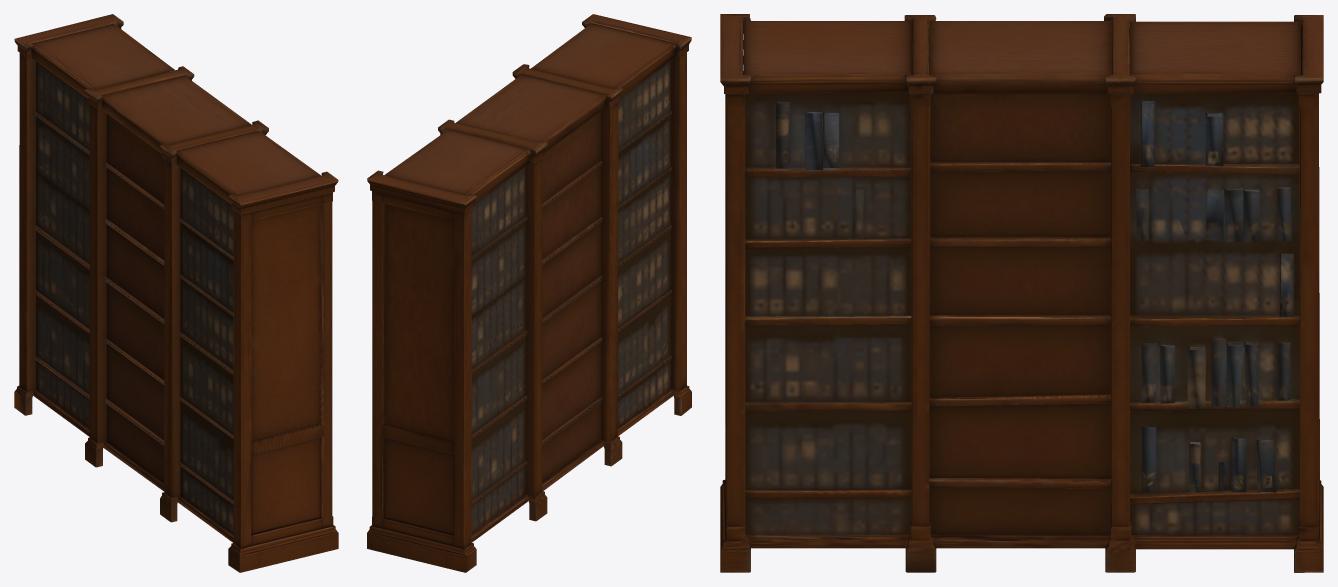
3 views of the same model, side by side, from view 1: azimuth 30°, elevation 25°; view 2: azimuth 150°, elevation 25°; view 3: azimuth 270°, elevation 25° (orthographic). The views are drawn at different scales.
Visible parts, largest first — view 1: tripo_node_5c62ba74-8c06-48d7-bbf6-18f4c9b72175; view 2: tripo_node_5c62ba74-8c06-48d7-bbf6-18f4c9b72175; view 3: tripo_node_5c62ba74-8c06-48d7-bbf6-18f4c9b72175.
Part boxes in pixels (x1,y1,x2,y2): tripo_node_5c62ba74-8c06-48d7-bbf6-18f4c9b72175: (14, 14, 338, 572); tripo_node_5c62ba74-8c06-48d7-bbf6-18f4c9b72175: (367, 14, 691, 572); tripo_node_5c62ba74-8c06-48d7-bbf6-18f4c9b72175: (720, 14, 1323, 572).
Size of the model in its own units: 0.2559 by 0.9043 by 0.998.
1 material, 1 textured.
